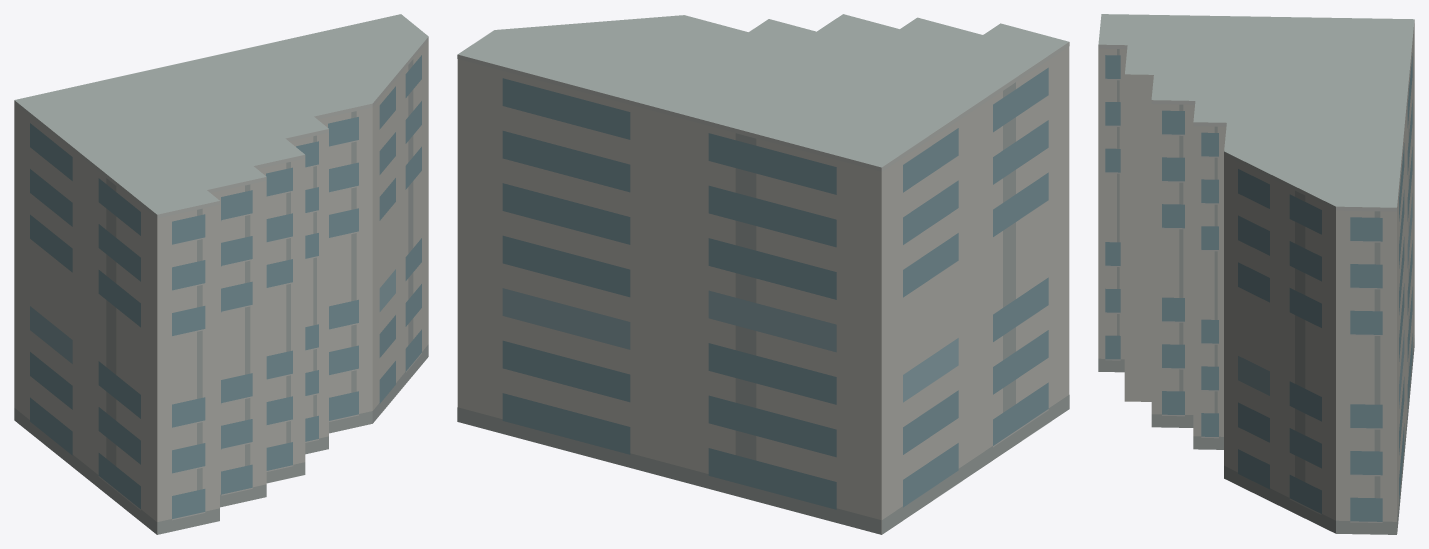
Rendered from survey-upis-32764187.glb.
3 views of the same model, side by side, from view 1: azimuth 30°, elevation 25°; view 2: azimuth 150°, elevation 25°; view 3: azimuth 270°, elevation 25° (orthographic). The views are drawn at different scales.
Parts seen in each view (by area): view 1: survey-upis-32764187.tmp; view 2: survey-upis-32764187.tmp; view 3: survey-upis-32764187.tmp.
Boxes of the visible parts, x1,y1,x2,y2 form: survey-upis-32764187.tmp: (14,14,428,534); survey-upis-32764187.tmp: (457,14,1069,534); survey-upis-32764187.tmp: (1098,14,1414,534).
Size of the model in its own units: 25.23 by 19.85 by 17.39.
